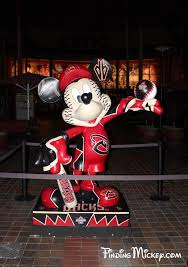Mickey: (35, 57, 116, 126)
